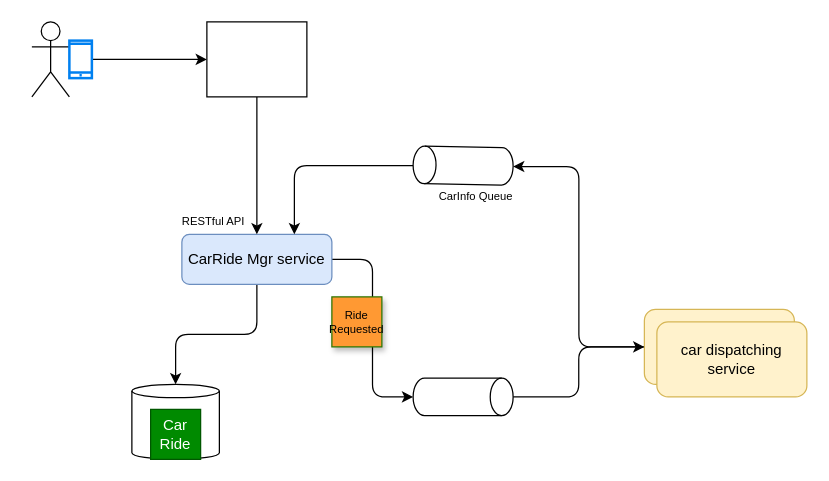
The diagram is 829 pixels wide and 481 high, and some of its shapes have lost their labels. Each missing label, with the centre of its shape:
Backend For Frontend: the point at 256,59
Queue: the point at 462,396
Traveller: the point at 50,59
